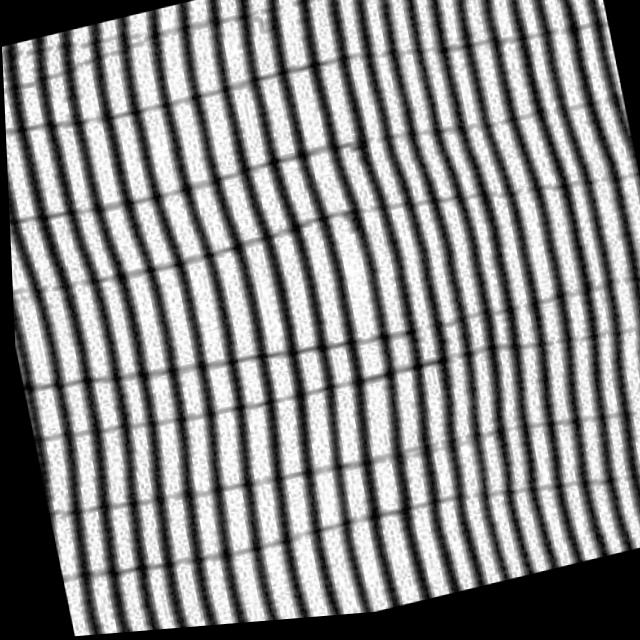Stitch: (228, 271, 598, 432)
